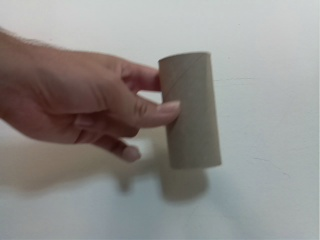rollo papel: (155, 51, 227, 170)
